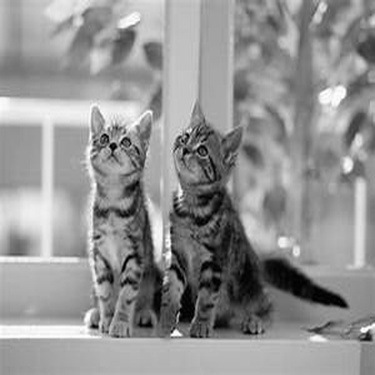cat: (150, 101, 349, 343), (63, 107, 165, 339)
